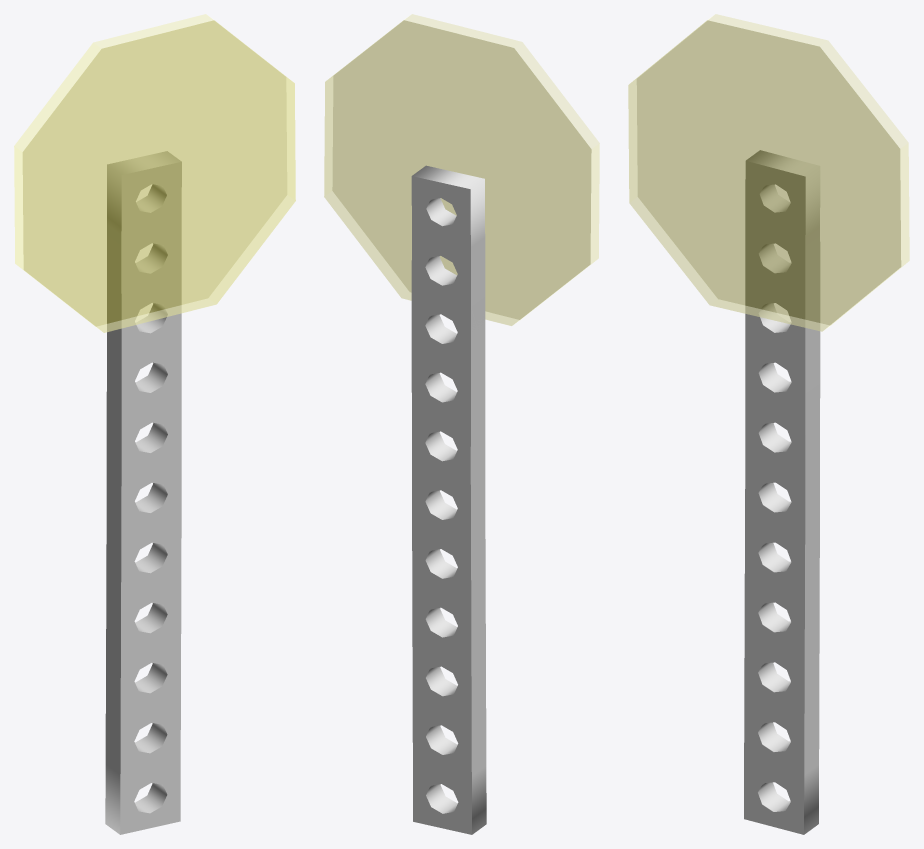
Rendered from stop sign 1.fbx.
The picture shows the model from 3 angles, left to right: view 1: azimuth 30°, elevation 25°; view 2: azimuth 150°, elevation 25°; view 3: azimuth 330°, elevation 25°; orthographic projection. The views are drawn at different scales.
Visible parts, largest first — view 1: Plane.023; view 2: Plane.023; view 3: Plane.023.
Boxes of the visible parts, bbox=[...] form: Plane.023: bbox=[14, 14, 295, 834]; Plane.023: bbox=[324, 14, 599, 834]; Plane.023: bbox=[628, 14, 909, 834].
Bounding box in the file's own units: 200 × 561 × 30.31.
